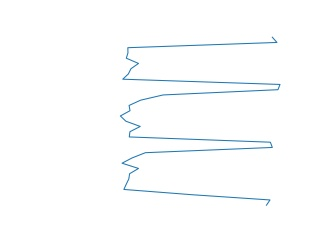majorRiverChannelBar: (118, 36, 283, 207)
